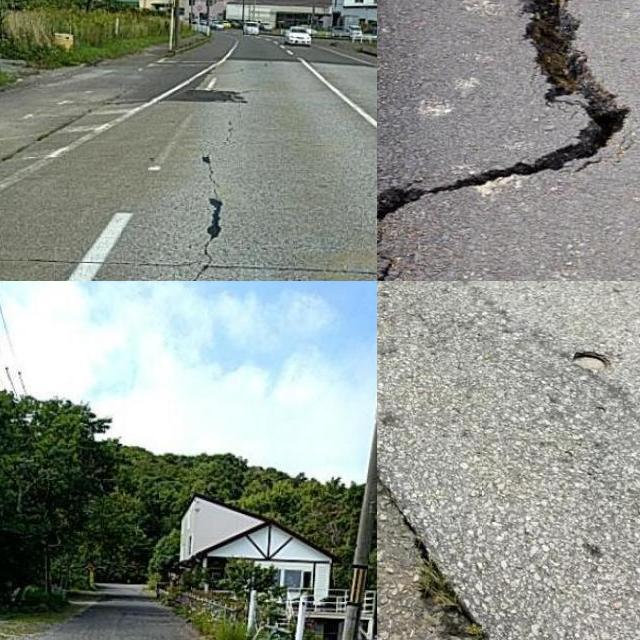Melintang: (0, 243, 377, 281)
Memanjang: (377, 445, 512, 640), (170, 84, 257, 281)
Pinggir: (377, 0, 640, 225)
